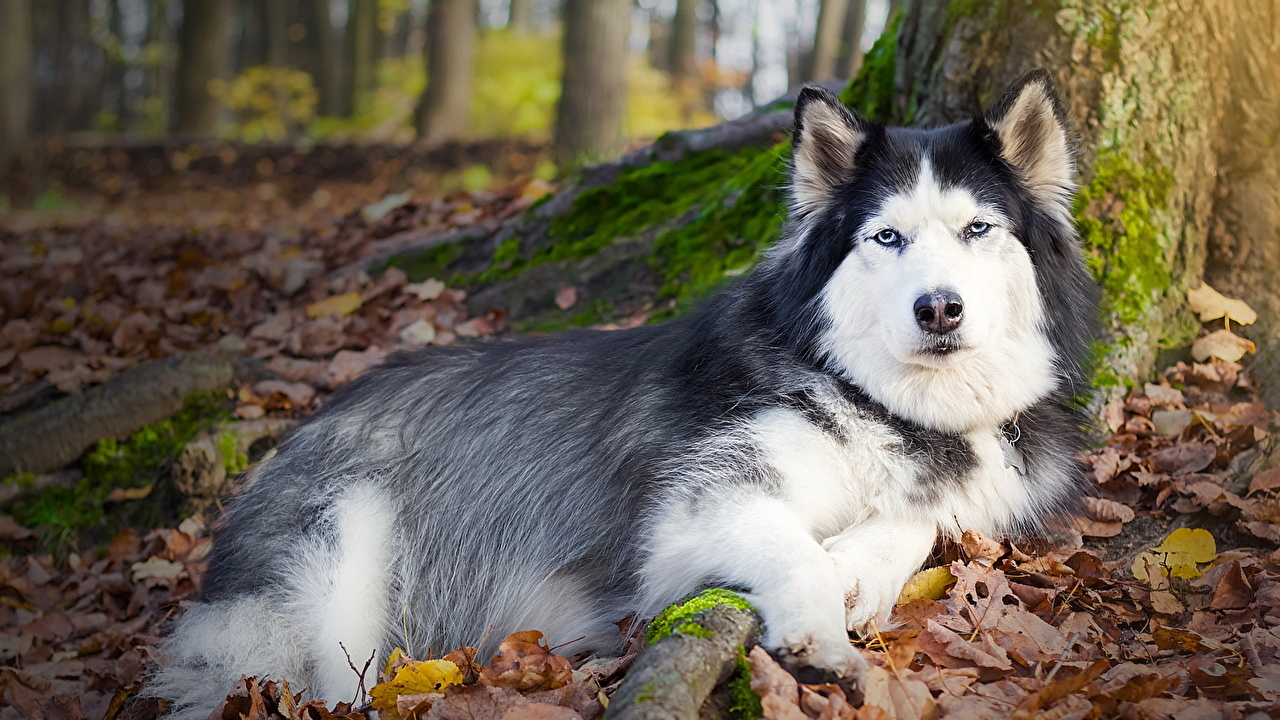husky: (632, 50, 1125, 585)
